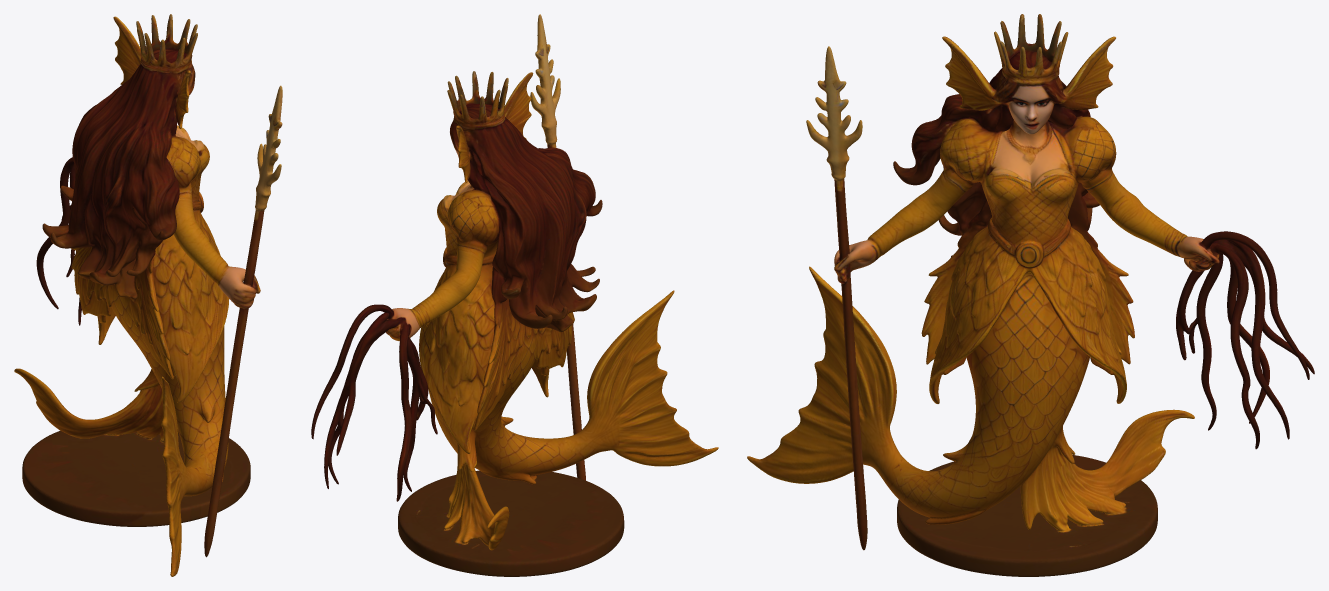
3 views of the same model, side by side, from view 1: azimuth 30°, elevation 25°; view 2: azimuth 150°, elevation 25°; view 3: azimuth 270°, elevation 25° (orthographic). The views are drawn at different scales.
Visible parts, largest first — view 1: tripo_node_ccb61142-cd0a-4c5f-92a3-508eeebdb393; view 2: tripo_node_ccb61142-cd0a-4c5f-92a3-508eeebdb393; view 3: tripo_node_ccb61142-cd0a-4c5f-92a3-508eeebdb393.
Part boxes in pixels (box(x1,y1,x2,y2)): tripo_node_ccb61142-cd0a-4c5f-92a3-508eeebdb393: box(14, 14, 282, 576); tripo_node_ccb61142-cd0a-4c5f-92a3-508eeebdb393: box(311, 14, 718, 576); tripo_node_ccb61142-cd0a-4c5f-92a3-508eeebdb393: box(747, 14, 1314, 576).
Bounding box in the file's own units: 0.4377 × 1 × 0.9508.
1 material, 1 textured.
